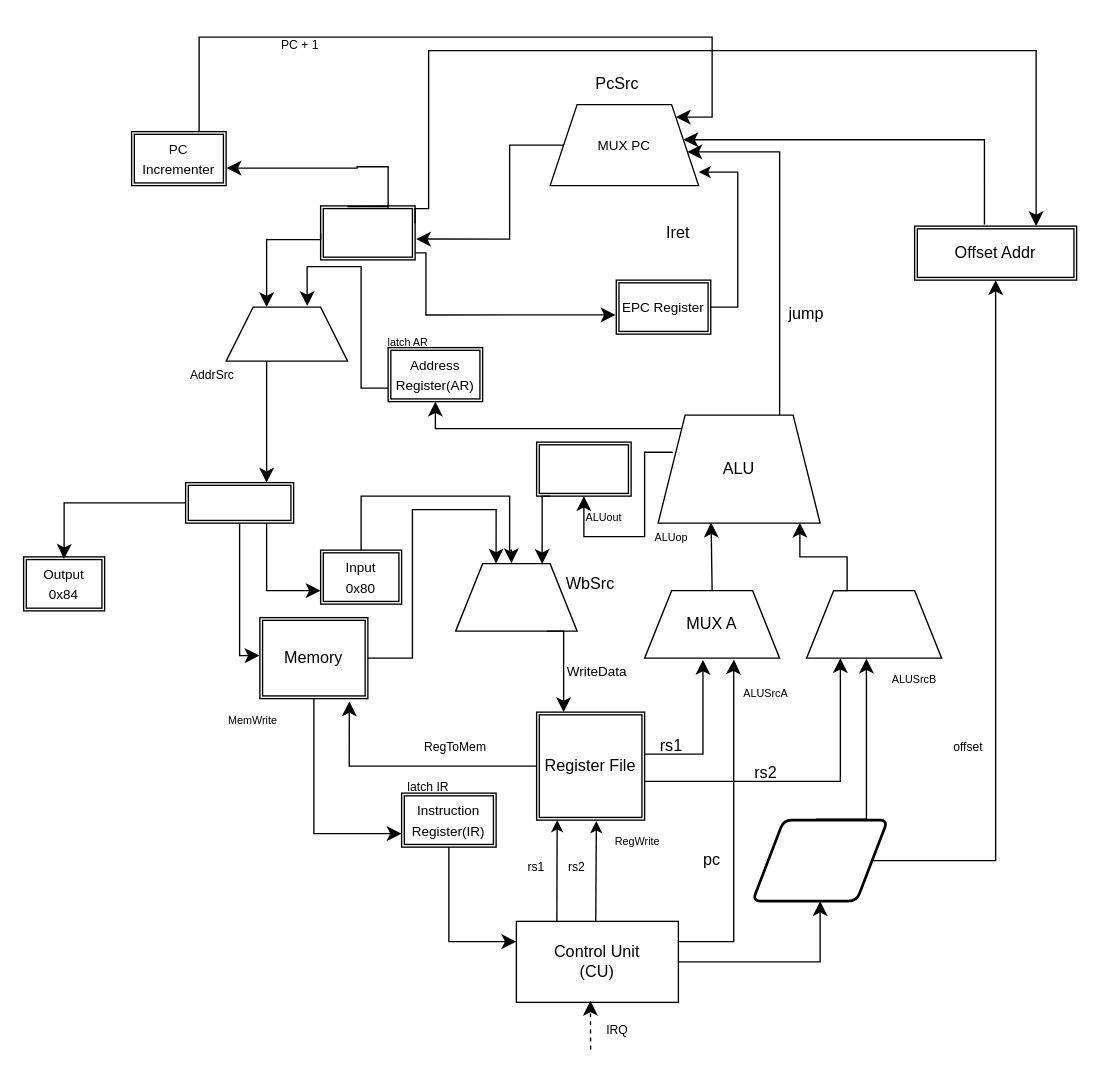
Image size: 1100x1087. Some labels were removed from this diagram. Each missing label, with the centre of its shape:
"Address Decoder" belongs at pixel 239 502.
"Imm Generator(sign extension)" belongs at pixel 819 860.
"MUX Addr" belongs at pixel 286 333.
"MUX B" belongs at pixel 873 623.
"MUX Writeback" belongs at pixel 515 596.
"Program Counter(PC)" belongs at pixel 367 232.
"Result Buffer" belongs at pixel 583 468.
